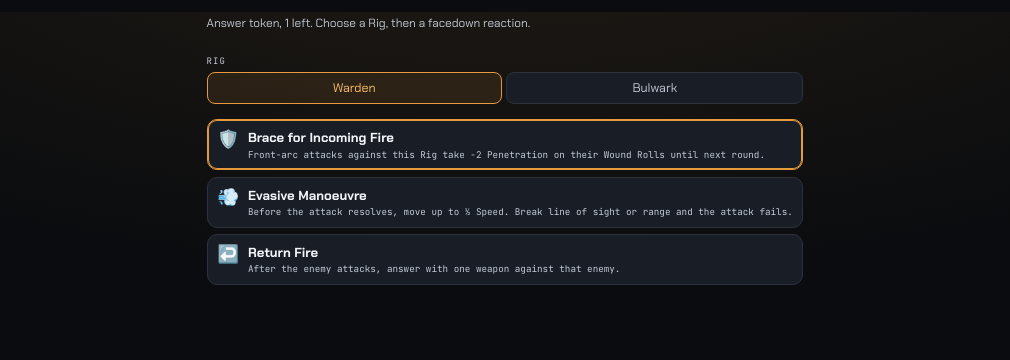
Test: switching Rig re-renders and surfaces Raise Shield for a Bulwark carrier
Expected: the text "Raise Shield" is not shown
Click the button "Bulwark".
click(655, 88)  # box x1=506 y1=72 x2=803 y2=104
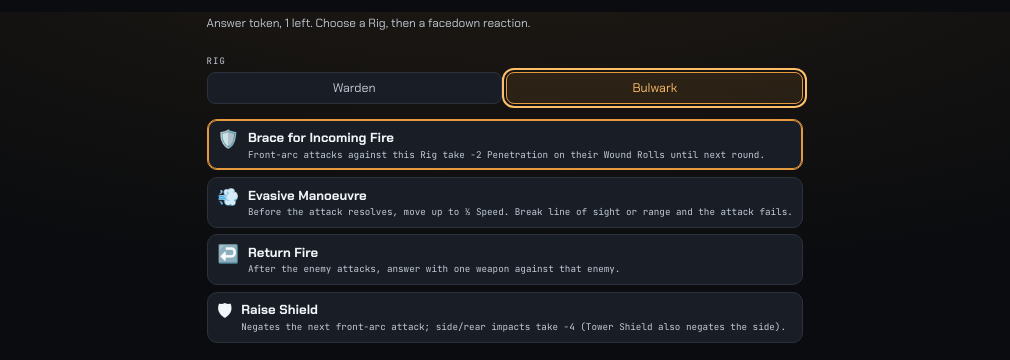
Expected: the text "Raise Shield" is shown, x1=241 y1=301 x2=318 y2=318
